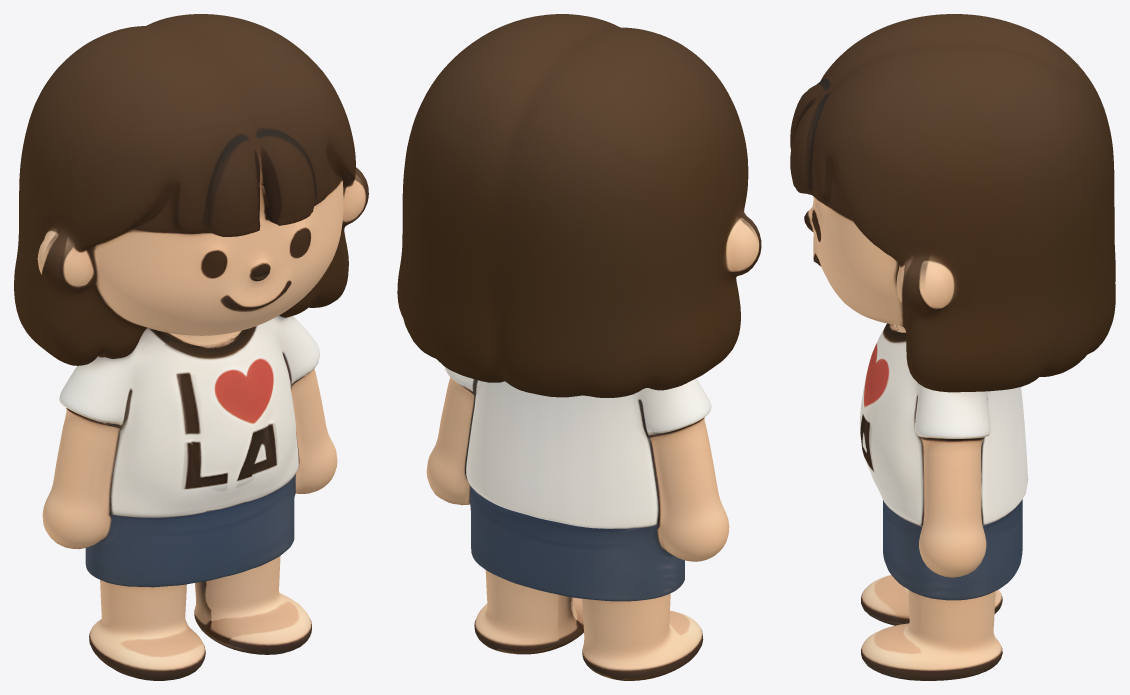
Rendered from female_model3.glb.
3 views of the same model, side by side, from view 1: azimuth 30°, elevation 25°; view 2: azimuth 150°, elevation 25°; view 3: azimuth 270°, elevation 25° (orthographic). The views are drawn at different scales.
Visible parts, largest first — view 1: model; view 2: model; view 3: model.
Boxes of the visible parts, x1=… form: model: x1=14, y1=14, x2=368, y2=680; model: x1=397, y1=14, x2=761, y2=680; model: x1=790, y1=14, x2=1115, y2=680.
Size of the model in its own units: 1.06 by 1.9 by 0.9296.
1 material, 1 textured.
